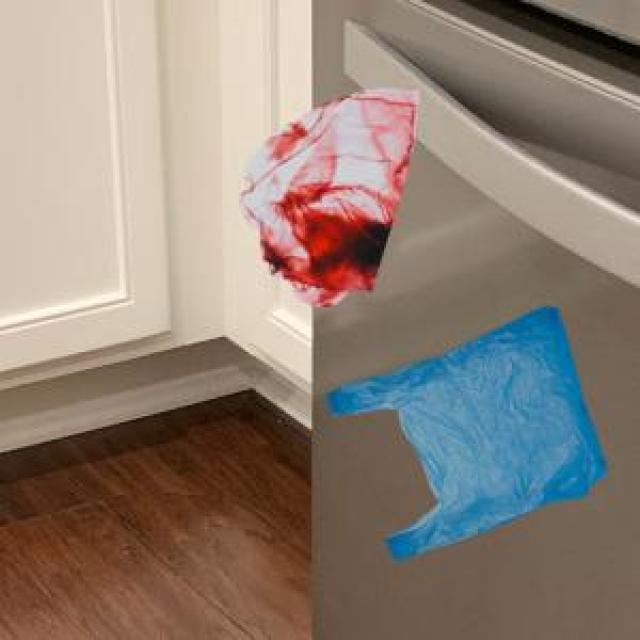plastic: (208, 63, 616, 580)
